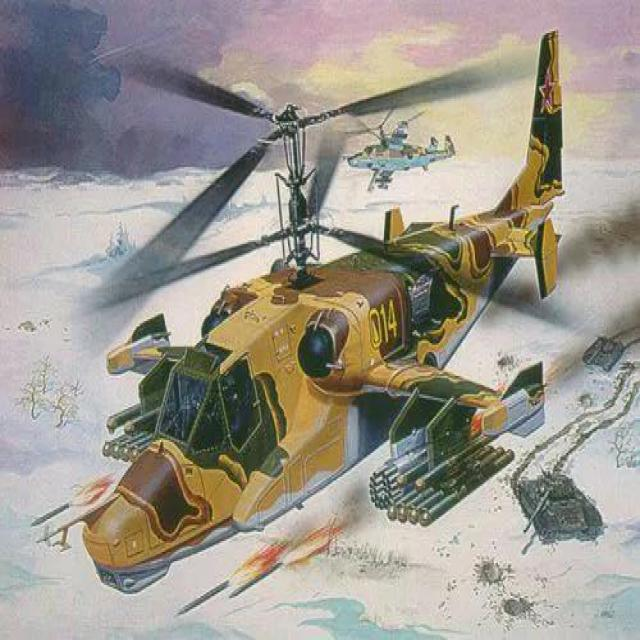MIL_HELO: (44, 28, 586, 593)
